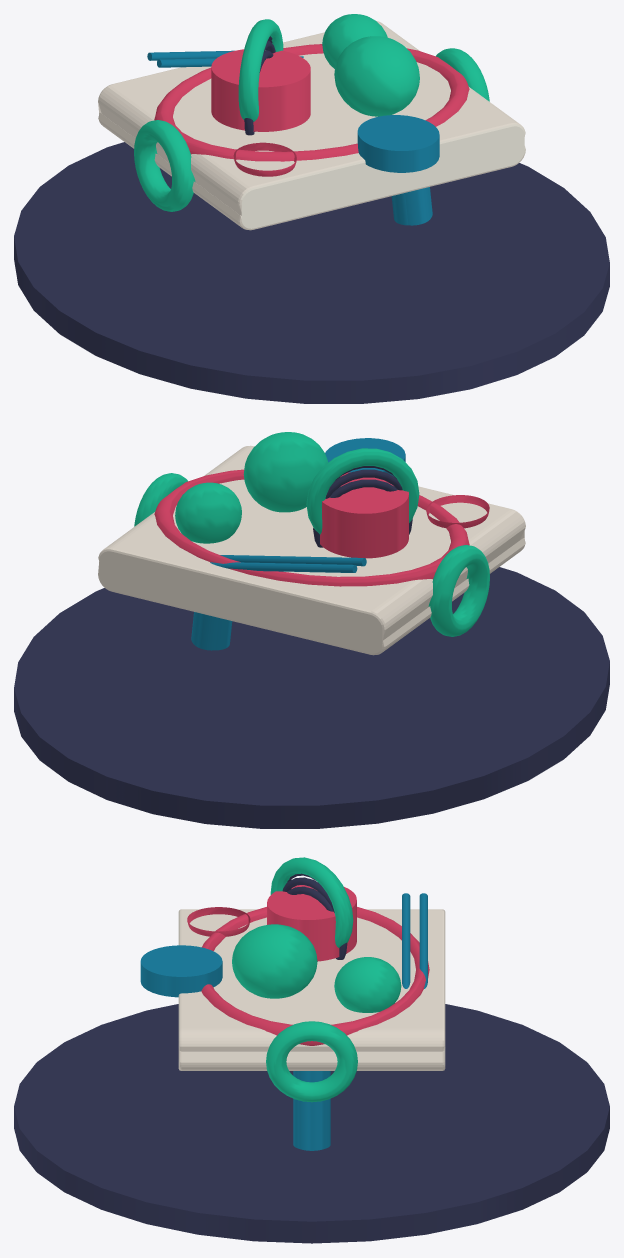
The model's file is 0283_世界古代文明图鉴_早期玻璃器皿.glb.
3 views of the same model, one above another, from view 1: azimuth 30°, elevation 25°; view 2: azimuth 150°, elevation 25°; view 3: azimuth 270°, elevation 25° (orthographic). The views are drawn at different scales.
Visible parts, largest first — view 1: card_0283; view 2: card_0283; view 3: card_0283.
Part boxes in pixels (x1,y1,x2,y2): card_0283: [14, 14, 609, 403]; card_0283: [14, 432, 609, 828]; card_0283: [14, 857, 609, 1243].
Bounding box in the file's own units: 2.02 × 1 × 2.21.
